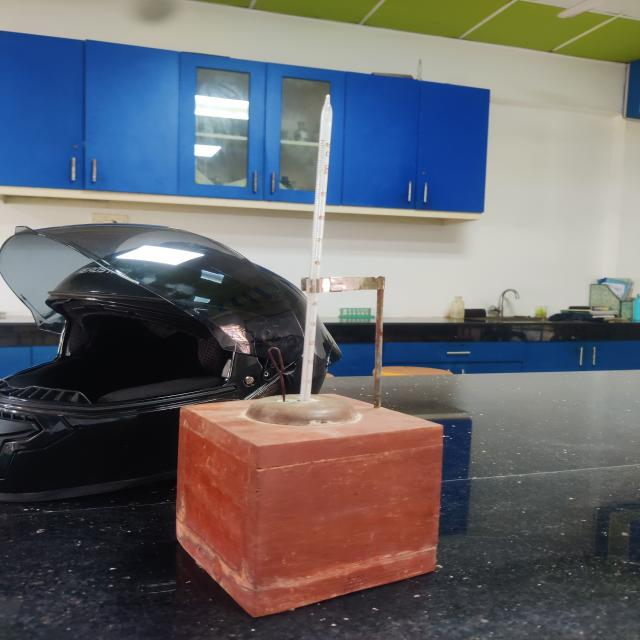Calorimeter: (131, 69, 495, 640)
